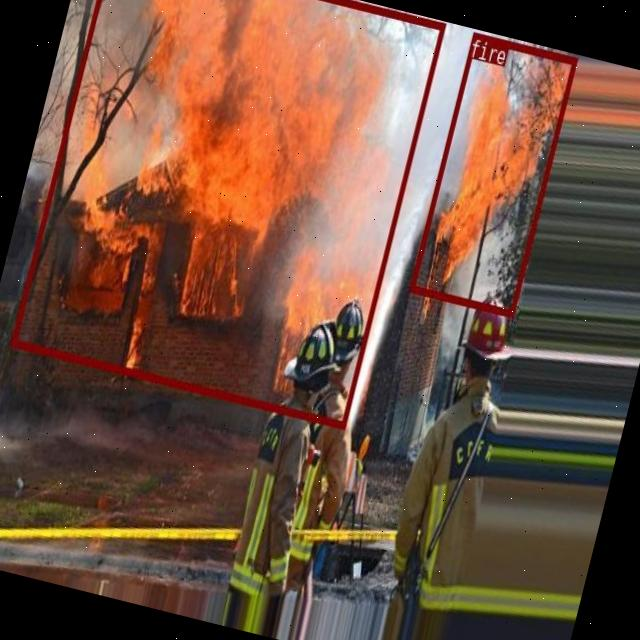fire: (10, 0, 445, 428), (408, 32, 576, 316)
